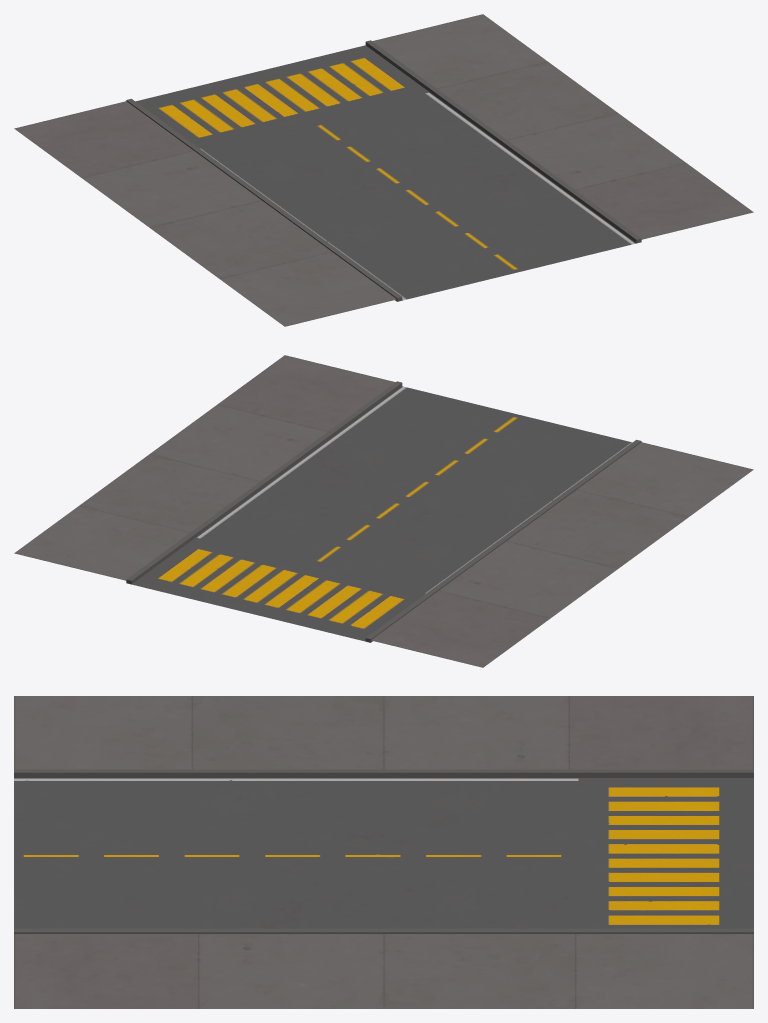
The model's file is SM_Floor_Road_02.fbx.
3 views of the same model, one above another, from view 1: azimuth 30°, elevation 25°; view 2: azimuth 150°, elevation 25°; view 3: azimuth 270°, elevation 25° (orthographic). The views are drawn at different scales.
Visible parts, largest first — view 1: SM_Floor_Road_02; view 2: SM_Floor_Road_02; view 3: SM_Floor_Road_02.
Part boxes in pixels (box(x1,y1,x2,y2)): SM_Floor_Road_02: box(14, 14, 753, 326); SM_Floor_Road_02: box(14, 355, 753, 667); SM_Floor_Road_02: box(14, 696, 753, 1008).
Bounding box in the file's own units: 10 × 0.075 × 10.
